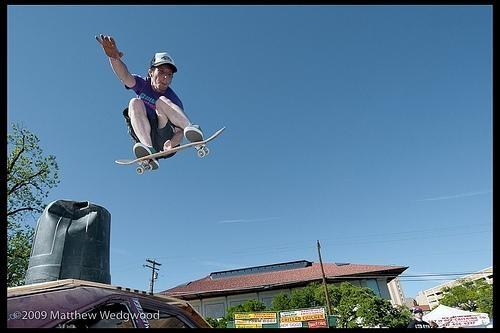car: (7, 282, 209, 328)
